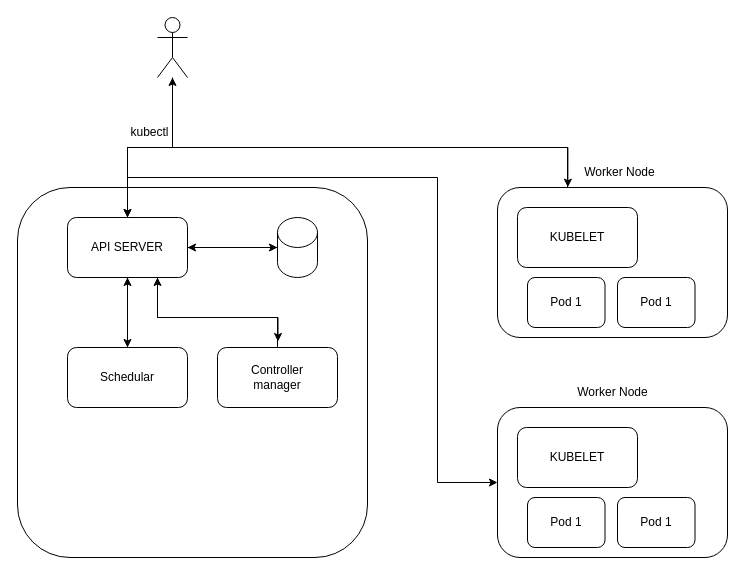
This 745x575 diagram has some shape labels left out. The shapes that lost their labels are listed below. From the top down, each one's centre as x and y in pixels, then its label:
the point at 172,47: USER
the point at 297,247: etcd
